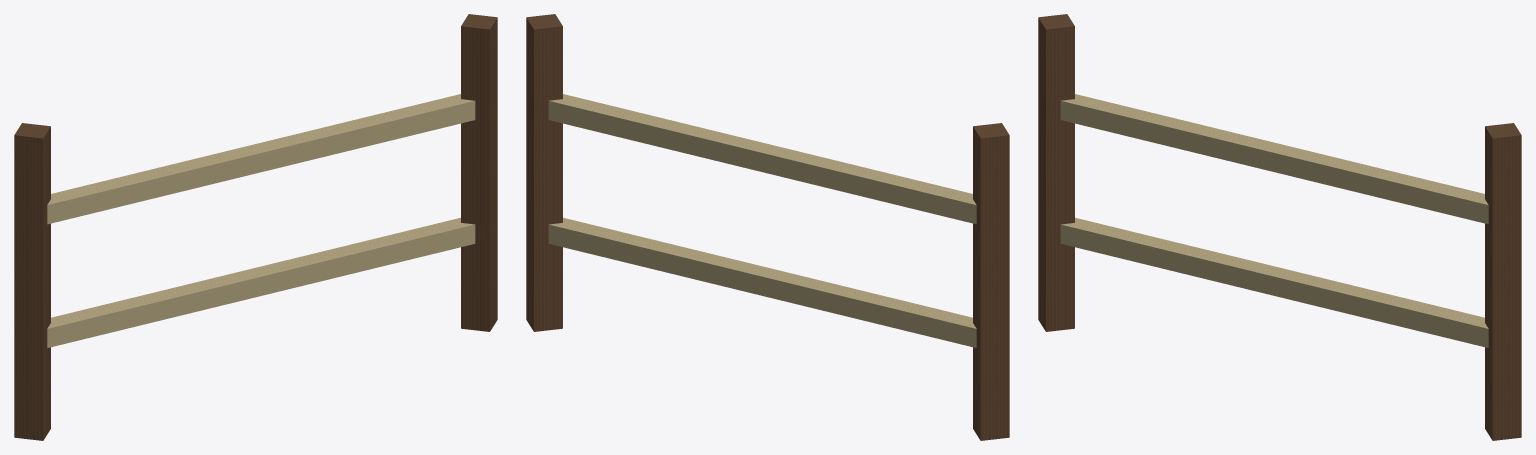
Rendered from atlas100-clockwork-util04.lod2.glb.
3 renders of one model, left to right at view 1: azimuth 30°, elevation 25°; view 2: azimuth 150°, elevation 25°; view 3: azimuth 330°, elevation 25°, orthographic.
Parts seen in each view (by area): view 1: atlas100-clockwork-util04:part-004, atlas100-clockwork-util04:part-005, atlas100-clockwork-util04:part-000, atlas100-clockwork-util04:part-002; view 2: atlas100-clockwork-util04:part-004, atlas100-clockwork-util04:part-005, atlas100-clockwork-util04:part-000, atlas100-clockwork-util04:part-002; view 3: atlas100-clockwork-util04:part-004, atlas100-clockwork-util04:part-005, atlas100-clockwork-util04:part-002, atlas100-clockwork-util04:part-000.
Part boxes in pixels (<box>): atlas100-clockwork-util04:part-004: <box>47,217,475,347</box>; atlas100-clockwork-util04:part-005: <box>47,94,475,224</box>; atlas100-clockwork-util04:part-000: <box>14,123,50,440</box>; atlas100-clockwork-util04:part-002: <box>461,14,497,331</box>; atlas100-clockwork-util04:part-004: <box>548,217,976,347</box>; atlas100-clockwork-util04:part-005: <box>548,94,976,224</box>; atlas100-clockwork-util04:part-000: <box>973,123,1009,440</box>; atlas100-clockwork-util04:part-002: <box>526,14,562,331</box>; atlas100-clockwork-util04:part-004: <box>1060,217,1488,347</box>; atlas100-clockwork-util04:part-005: <box>1060,94,1488,224</box>; atlas100-clockwork-util04:part-002: <box>1485,123,1521,440</box>; atlas100-clockwork-util04:part-000: <box>1038,14,1074,331</box>.
Bounding box in the file's own units: 1.84 × 1.1 × 0.14.
2 materials, 2 textured.
